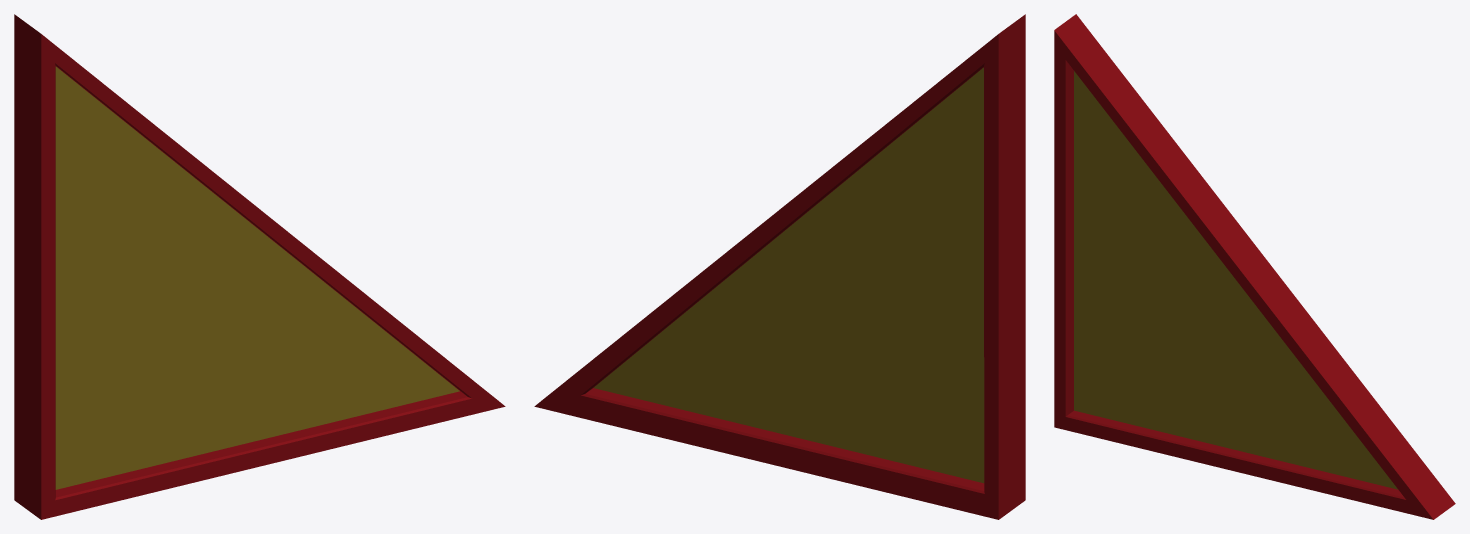
The model's file is SM_MH_01_Plaster_Wall_Roof_R_01.fbx.
3 renders of one model, left to right at view 1: azimuth 30°, elevation 25°; view 2: azimuth 150°, elevation 25°; view 3: azimuth 330°, elevation 25°, orthographic. The views are drawn at different scales.
Visible parts, largest first — view 1: SM_MH_01_Plaster_Wall_Roof_R_01_LOD0; view 2: SM_MH_01_Plaster_Wall_Roof_R_01_LOD0; view 3: SM_MH_01_Plaster_Wall_Roof_R_01_LOD0.
Part boxes in pixels (x1,y1,x2,y2): SM_MH_01_Plaster_Wall_Roof_R_01_LOD0: [14, 14, 505, 519]; SM_MH_01_Plaster_Wall_Roof_R_01_LOD0: [534, 14, 1025, 519]; SM_MH_01_Plaster_Wall_Roof_R_01_LOD0: [1054, 14, 1455, 519].
Size of what is drawn, in the model's own units: 300 by 300 by 30.2.
